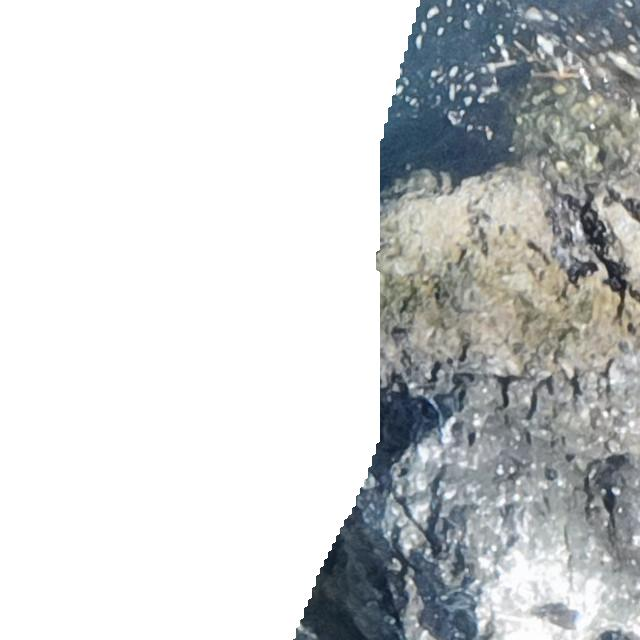umineko: (542, 604, 591, 630)
